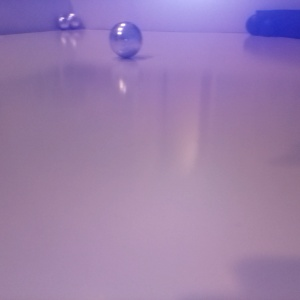alive_ball: (103, 66, 192, 155)
